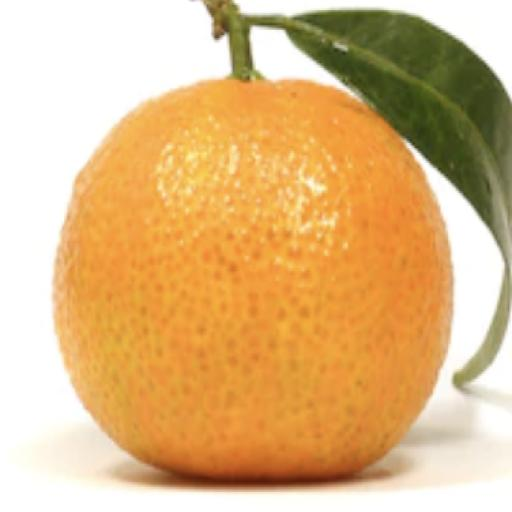orange: (55, 80, 452, 480)
